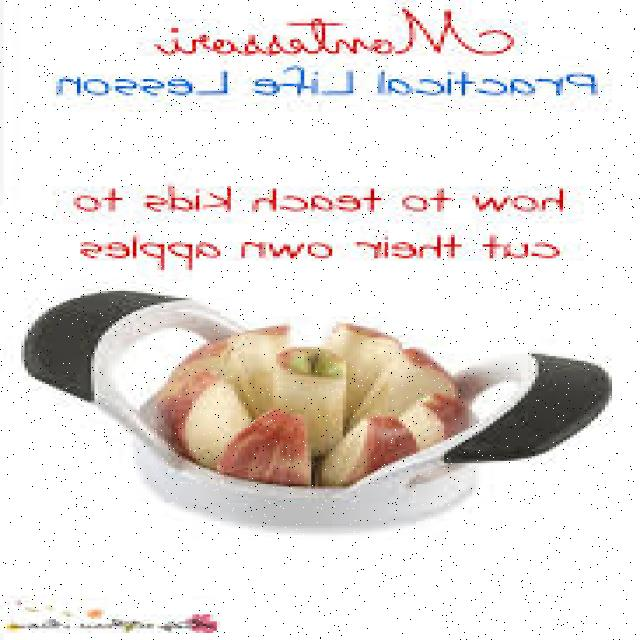Apple: (154, 322, 469, 483)
